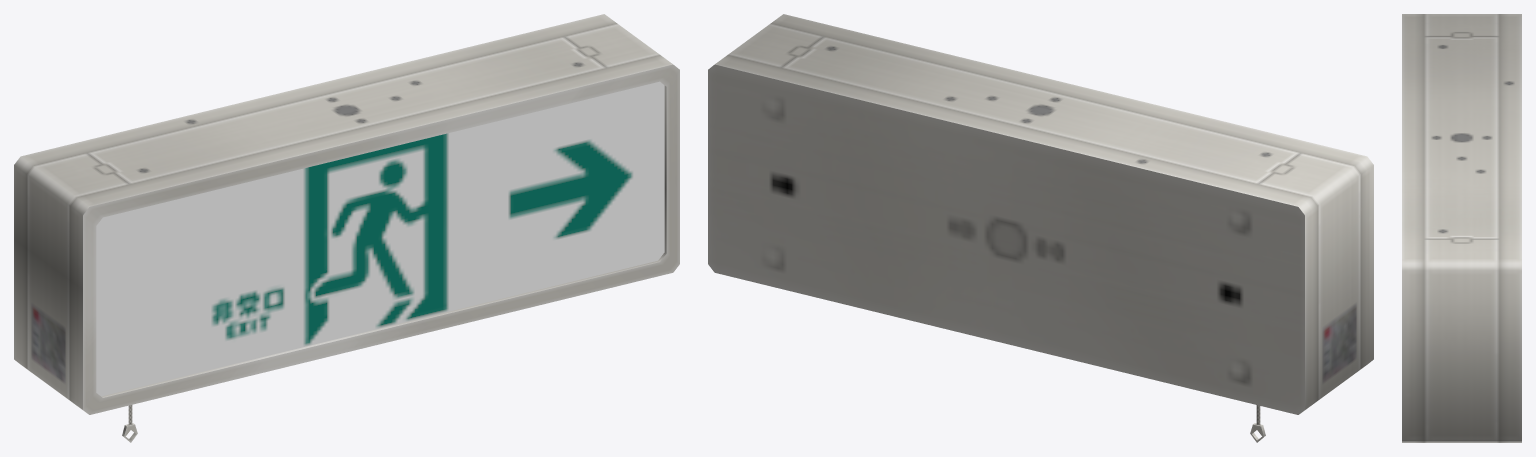
Rendered from SHW_Exitlight_01_12.fbx.
The picture shows the model from 3 angles, left to right: view 1: azimuth 30°, elevation 25°; view 2: azimuth 150°, elevation 25°; view 3: azimuth 270°, elevation 25°; orthographic projection. The views are drawn at different scales.
Visible parts, largest first — view 1: shw_exitlight_01_12; view 2: shw_exitlight_01_12; view 3: shw_exitlight_01_12.
Boxes of the visible parts, x1,y1,x2,y2 form: shw_exitlight_01_12: (14, 14, 679, 442); shw_exitlight_01_12: (708, 14, 1373, 442); shw_exitlight_01_12: (1402, 14, 1521, 442).
Bounding box in the file's own units: 90 × 40.17 × 18.
